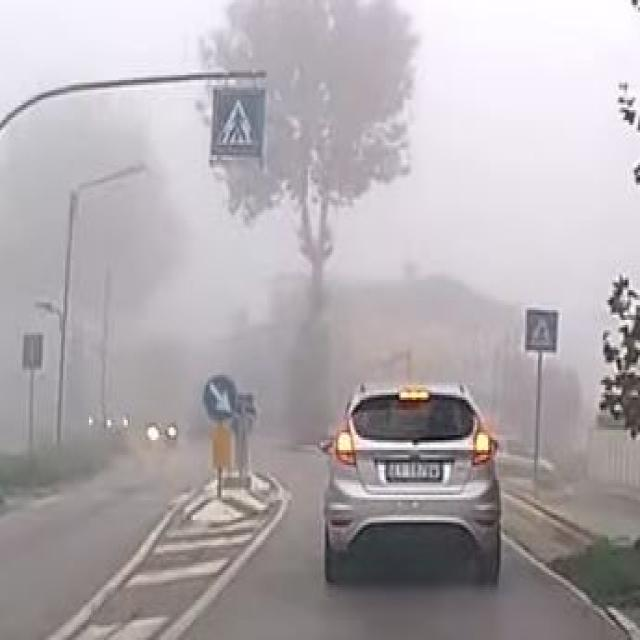Car: (322, 383, 502, 584)
Pedestrian crosswalk: (214, 88, 263, 154), (526, 307, 556, 353)
